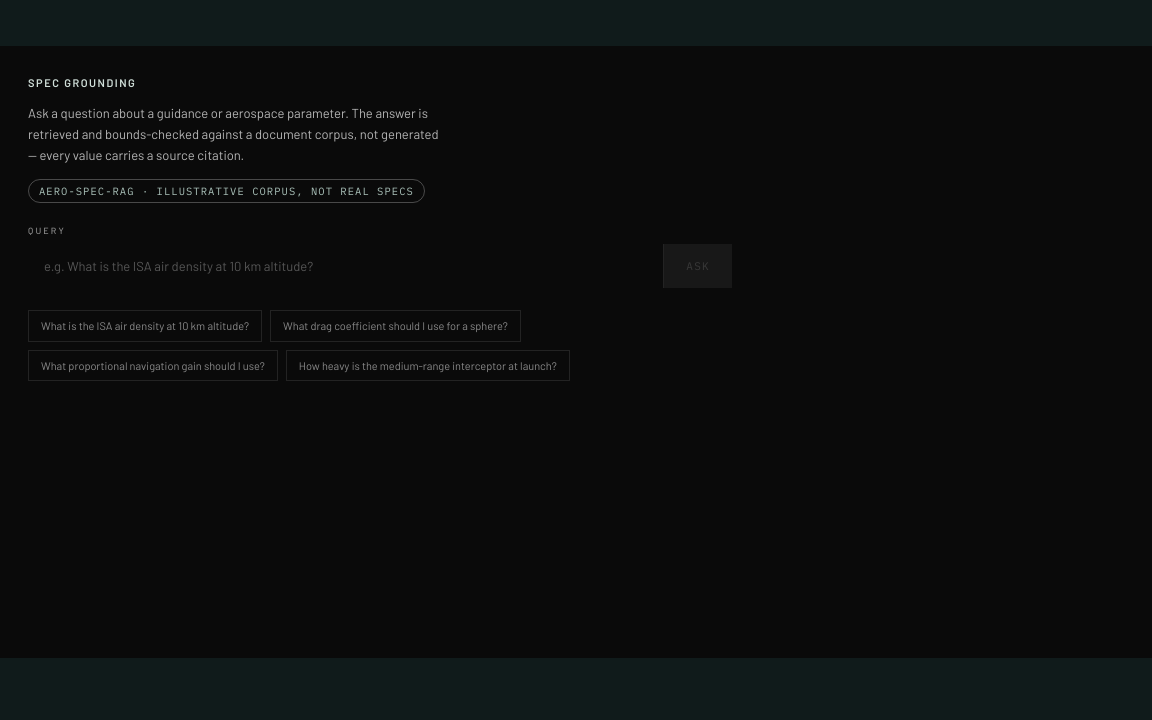
Test case: SpecGroundingPanel › shows a reachability error when the backend is unavailable
Type "anything" into the field labelled "QUERY" at (346, 266), box [28,244,663,288]
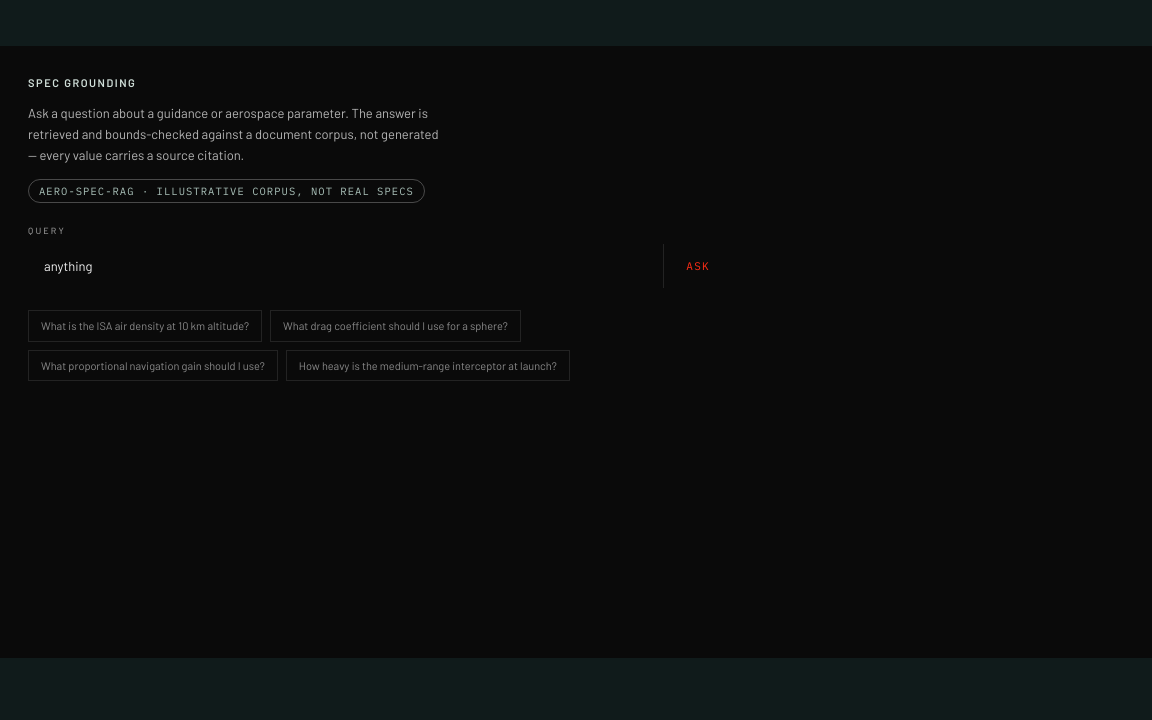
Click the button "ASK" at (698, 266), box [664,244,732,288]
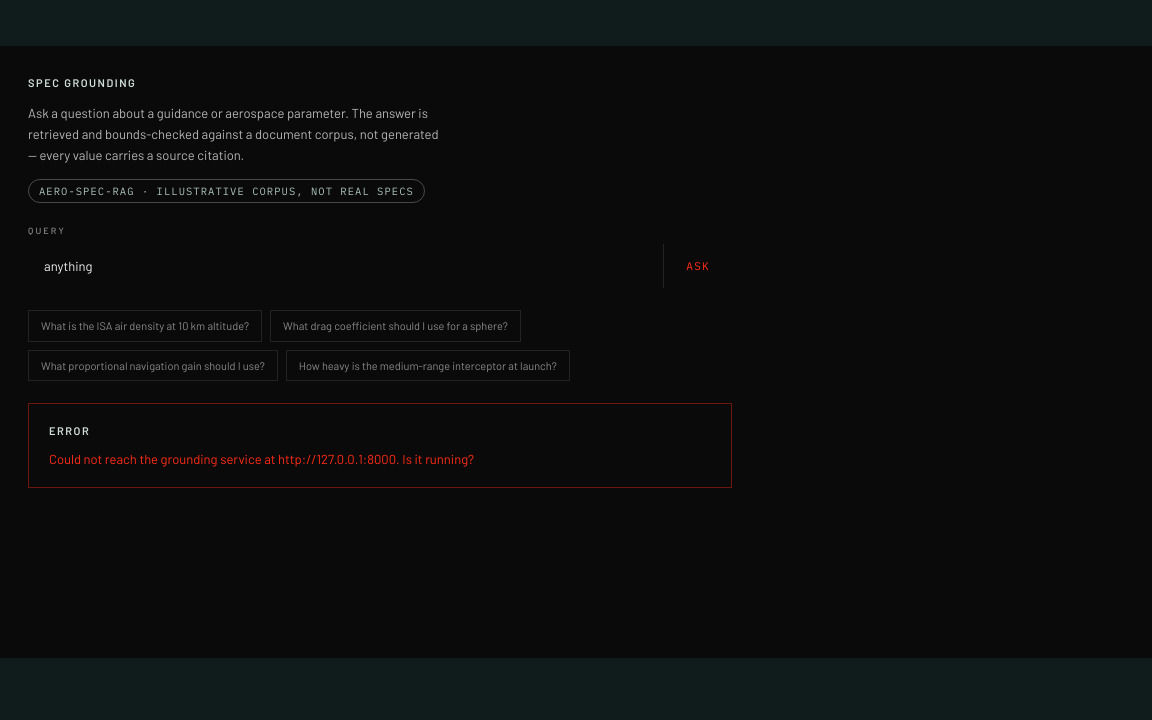
Now the text "Could not reach" is shown, box [49,451,474,467]
